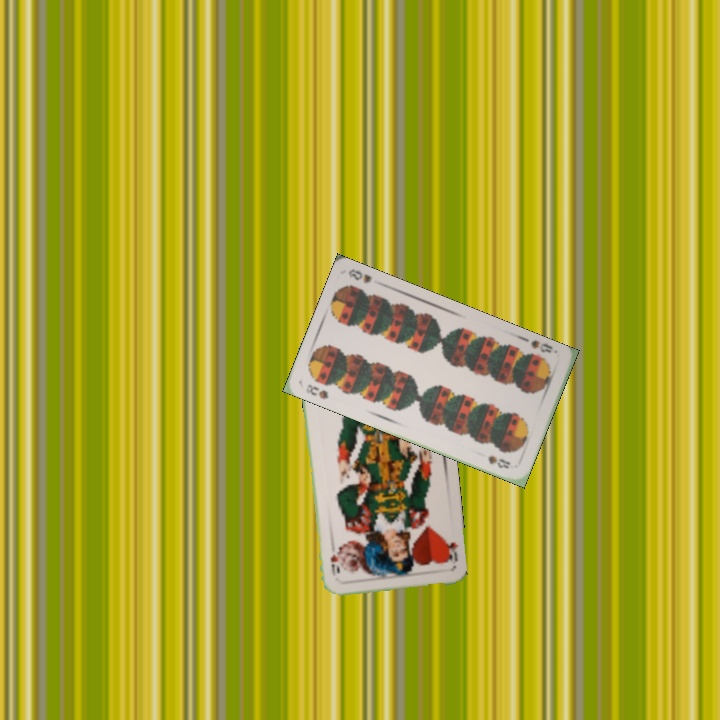HO: (441, 535, 461, 565)
S8: (302, 380, 331, 402), (527, 336, 555, 356)
